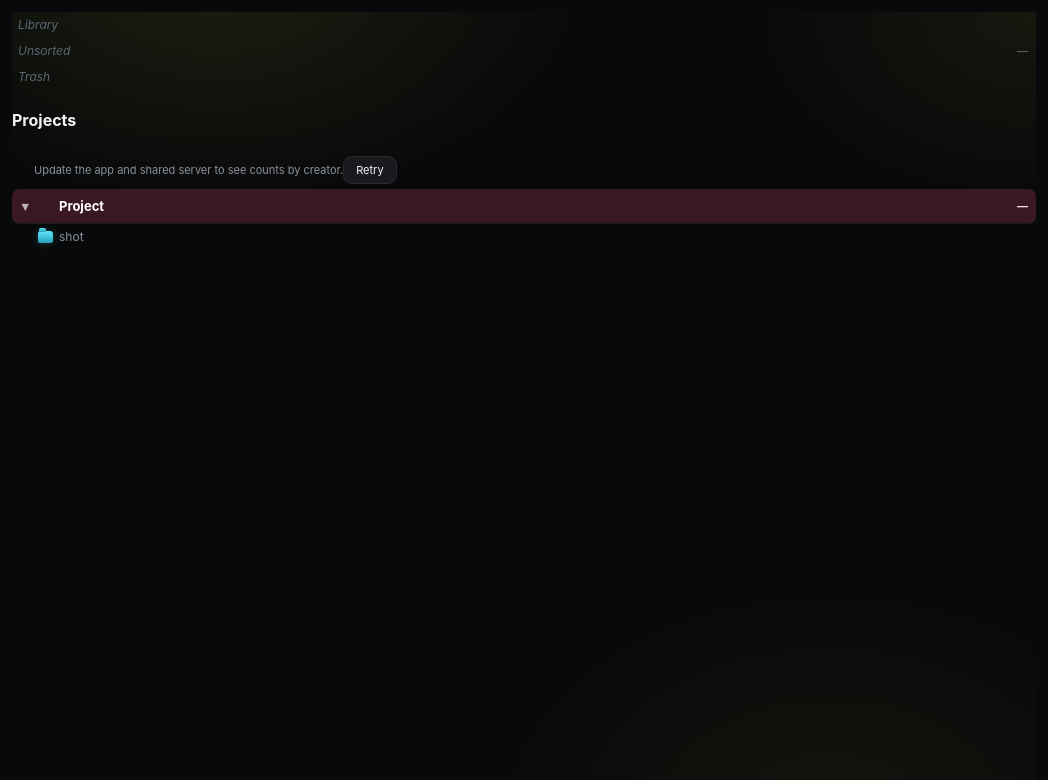
Test case: 선택 중 집계 실패/구서버이면 0 또는 전체값으로 바꾸지 않고 안내·재조회를 제공한다
Expected: the message "Update the app and shared server to see counts by creator. Retry" is shown, [34,156,397,184]
Click the button "Retry".
click(370, 170)  # box [343,156,397,184]
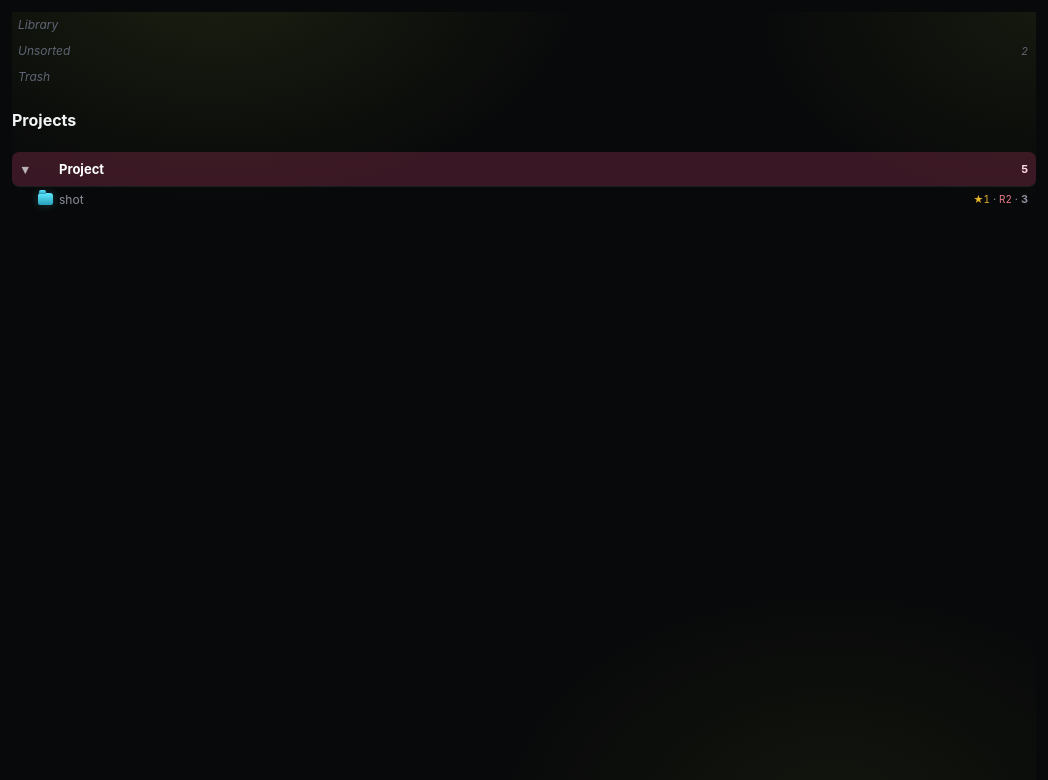
Now the message "Update the app and shared server to see counts by creator. Retry" is gone
